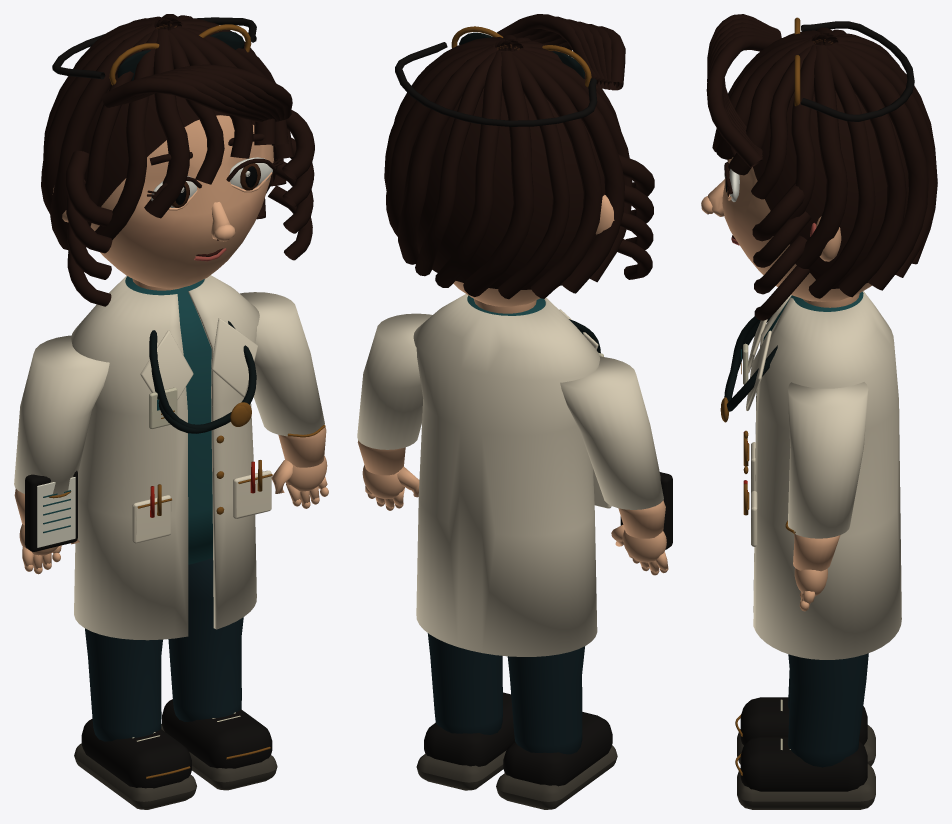
Rendered from doctor-01.glb.
The picture shows the model from 3 angles, left to right: view 1: azimuth 30°, elevation 25°; view 2: azimuth 150°, elevation 25°; view 3: azimuth 270°, elevation 25°; orthographic projection.
Visible parts, largest first — view 1: Body, Head, LegR, ArmL, LegL, ArmR; view 2: Head, Body, ArmL, LegL, LegR, ArmR; view 3: Head, Body, LegR, ArmR, LegL.
Part boxes in pixels (x1,y1,x2,y2): Body: (43,275,325,640); Head: (41,14,314,306); LegR: (161,557,277,790); ArmL: (14,335,109,574); LegL: (74,628,196,809); ArmR: (240,292,328,508); Head: (384,14,654,306); Body: (413,294,611,656); ArmL: (560,356,672,575); LegL: (496,646,617,809); LegR: (416,633,514,790); ArmR: (357,313,432,510); Head: (701,14,937,320); Body: (720,291,901,659); LegR: (735,653,875,809); ArmR: (787,382,868,611); LegL: (735,670,875,765).
Size of the model in its own units: 0.5725 by 1.33 by 0.3853.
